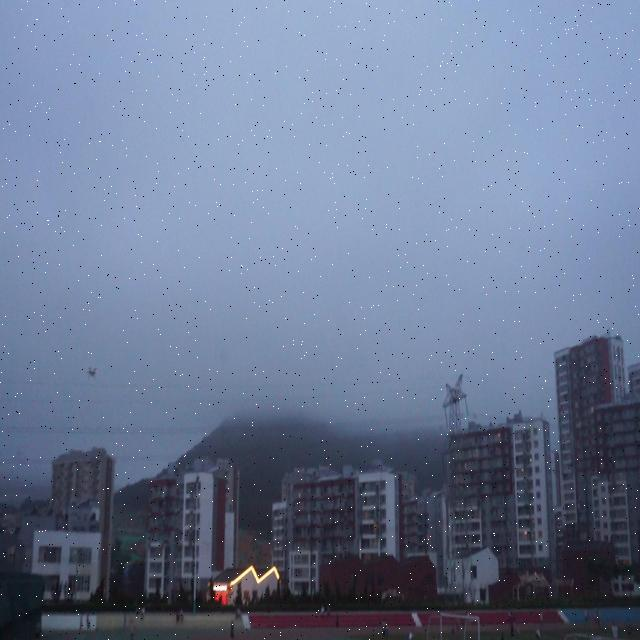UAV: (87, 366, 98, 377)
